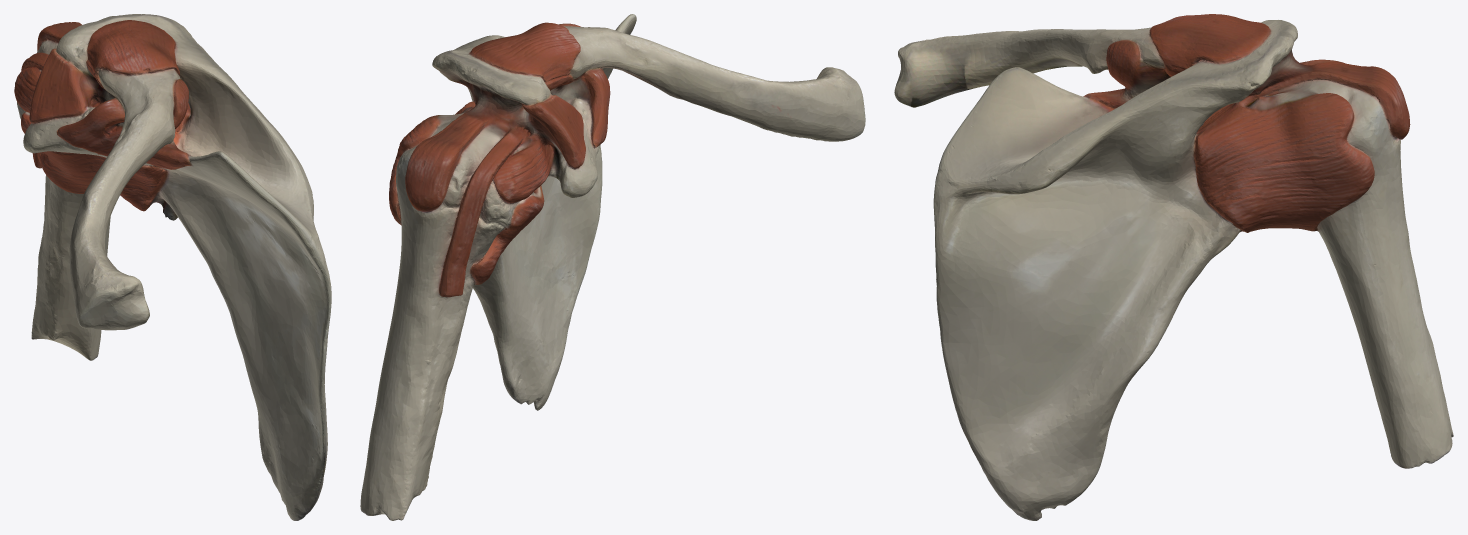
File: shoulder.obj
The picture shows the model from 3 angles, left to right: view 1: azimuth 30°, elevation 25°; view 2: azimuth 150°, elevation 25°; view 3: azimuth 270°, elevation 25°; orthographic projection. The views are drawn at different scales.
Parts seen in each view (by area): view 1: Sharp Fusion 1; view 2: Sharp Fusion 1; view 3: Sharp Fusion 1.
Boxes of the visible parts, x1,y1,x2,y2 form: Sharp Fusion 1: (14, 14, 331, 520); Sharp Fusion 1: (360, 14, 865, 520); Sharp Fusion 1: (894, 14, 1453, 520).
Size of the model in its own units: 112 by 167 by 183.
Materials: 1 (1 with a texture image).
